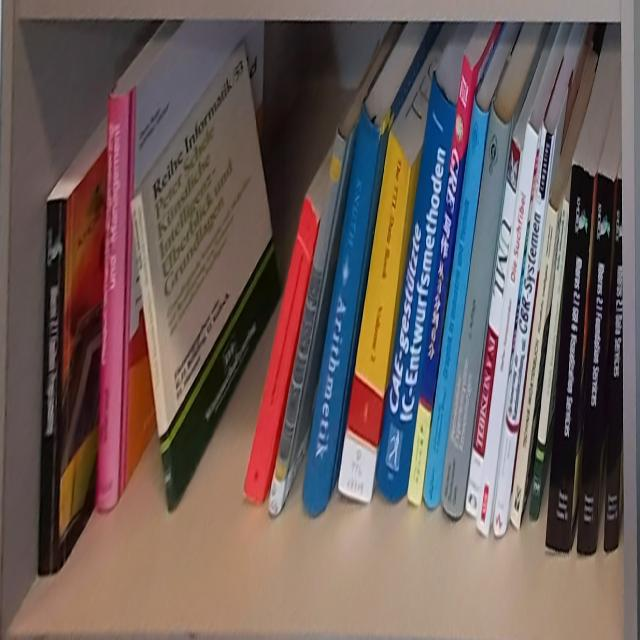Book Spine: (376, 73, 458, 503), (303, 104, 383, 514), (267, 131, 348, 516), (407, 53, 473, 507), (442, 103, 513, 518), (423, 97, 491, 509), (337, 131, 412, 503), (493, 121, 556, 538), (476, 123, 538, 538), (243, 195, 319, 506), (464, 138, 522, 520), (545, 161, 594, 554), (510, 203, 558, 532), (96, 93, 133, 513), (577, 174, 615, 556), (131, 193, 176, 511), (529, 196, 569, 522), (37, 198, 68, 576), (605, 180, 623, 553)
